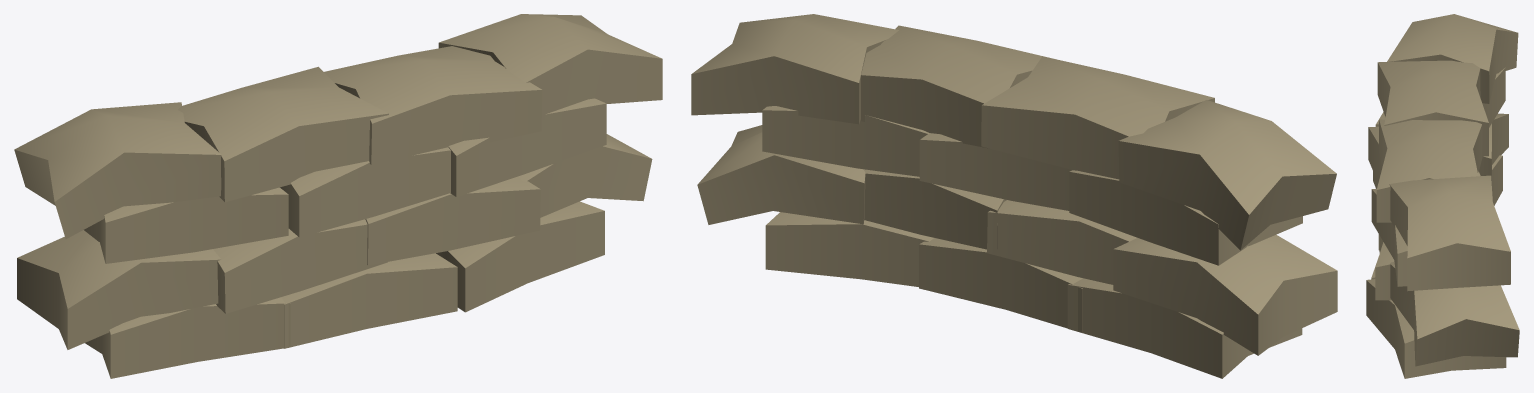
File: prop-sacktrench.glb
The picture shows the model from 3 angles, left to right: view 1: azimuth 30°, elevation 25°; view 2: azimuth 150°, elevation 25°; view 3: azimuth 270°, elevation 25°; orthographic projection. The views are drawn at different scales.
Parts seen in each view (by area): view 1: SackTrench; view 2: SackTrench; view 3: SackTrench.
Boxes of the visible parts, x1=… form: SackTrench: x1=14, y1=14, x2=662, y2=378; SackTrench: x1=691, y1=14, x2=1337, y2=378; SackTrench: x1=1366, y1=14, x2=1519, y2=378.
Bounding box in the file's own units: 3.35 × 1.28 × 0.9246.
